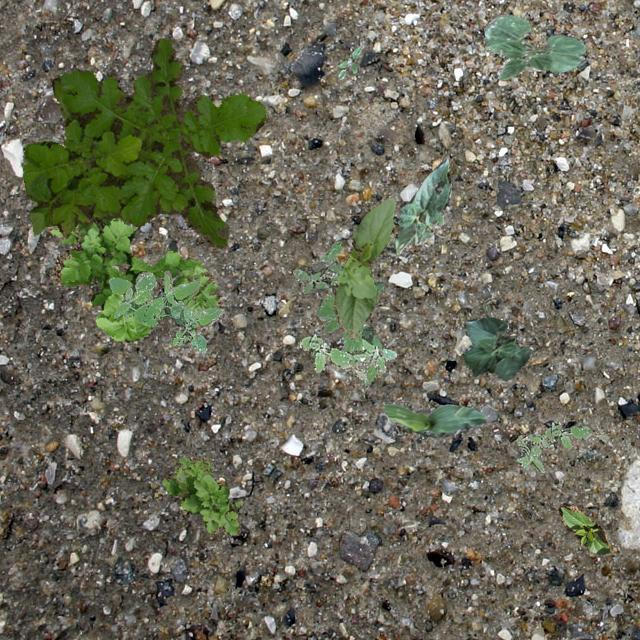crop: (332, 196, 394, 338), (484, 12, 584, 80), (392, 158, 450, 254), (462, 316, 530, 379), (382, 398, 488, 438), (558, 504, 610, 554)
weed: (22, 38, 264, 248), (48, 212, 222, 340), (292, 240, 382, 388), (108, 270, 222, 354), (162, 456, 242, 534), (514, 420, 608, 472), (300, 332, 396, 378), (336, 44, 361, 78)
